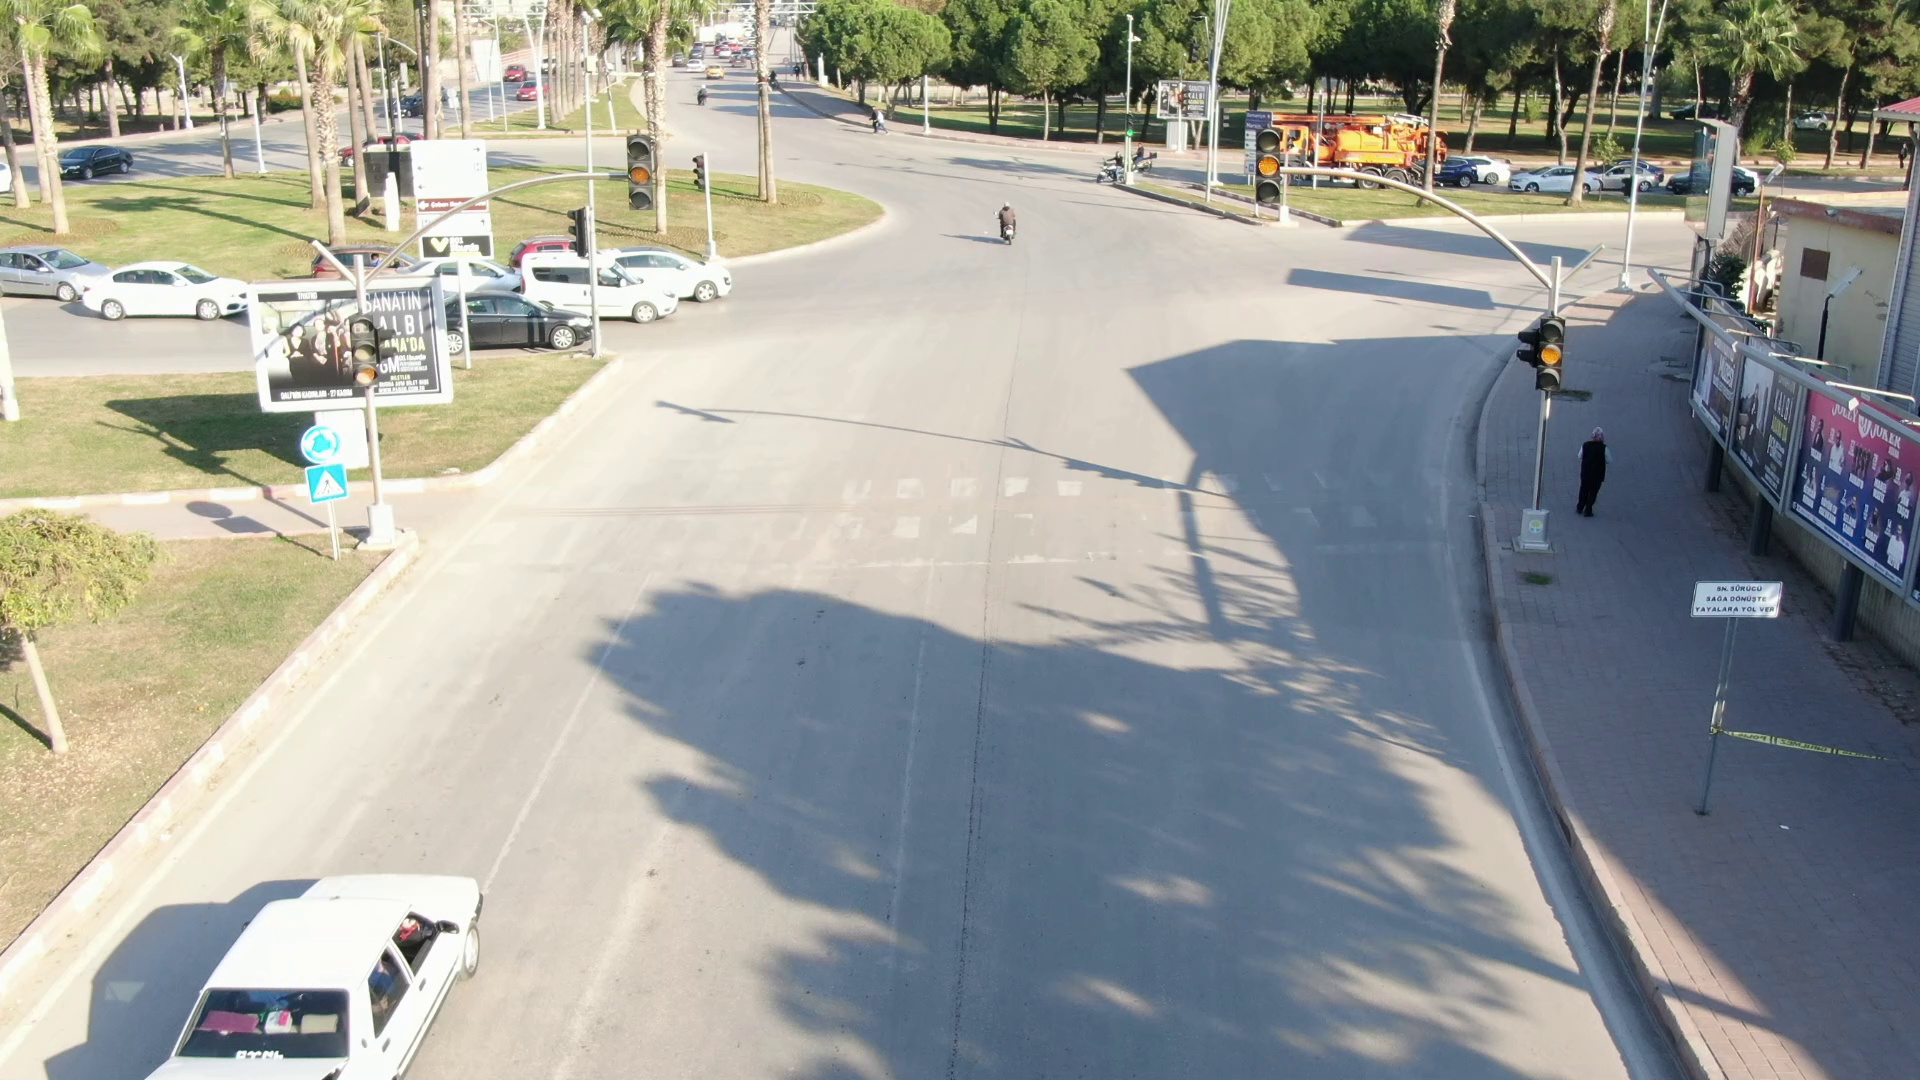car: (156, 845, 512, 1080), (66, 257, 272, 331), (512, 233, 686, 317)
person: (1555, 410, 1614, 539), (982, 200, 1033, 253)
